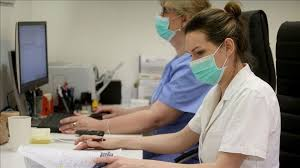with_mask: (187, 27, 237, 87), (154, 1, 192, 43)
